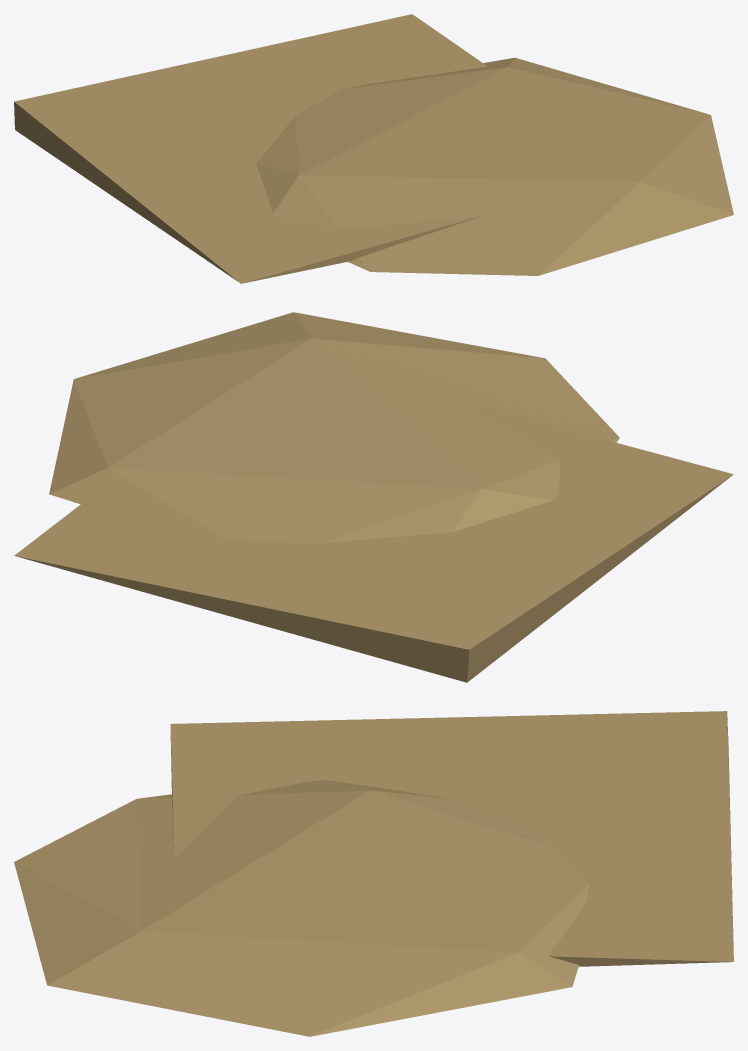
File: coast-beach-corner.lod2.glb
3 views of the same model, one above another, from view 1: azimuth 30°, elevation 25°; view 2: azimuth 150°, elevation 25°; view 3: azimuth 270°, elevation 25° (orthographic). The views are drawn at different scales.
Parts seen in each view (by area): view 1: coast-beach-corner__body; view 2: coast-beach-corner__body; view 3: coast-beach-corner__body.
Part boxes in pixels (bbox=[...]): coast-beach-corner__body: bbox=[14, 14, 733, 283]; coast-beach-corner__body: bbox=[14, 312, 733, 682]; coast-beach-corner__body: bbox=[14, 711, 733, 1036].
Bounding box in the file's own units: 5.23 × 0.3646 × 5.13.
